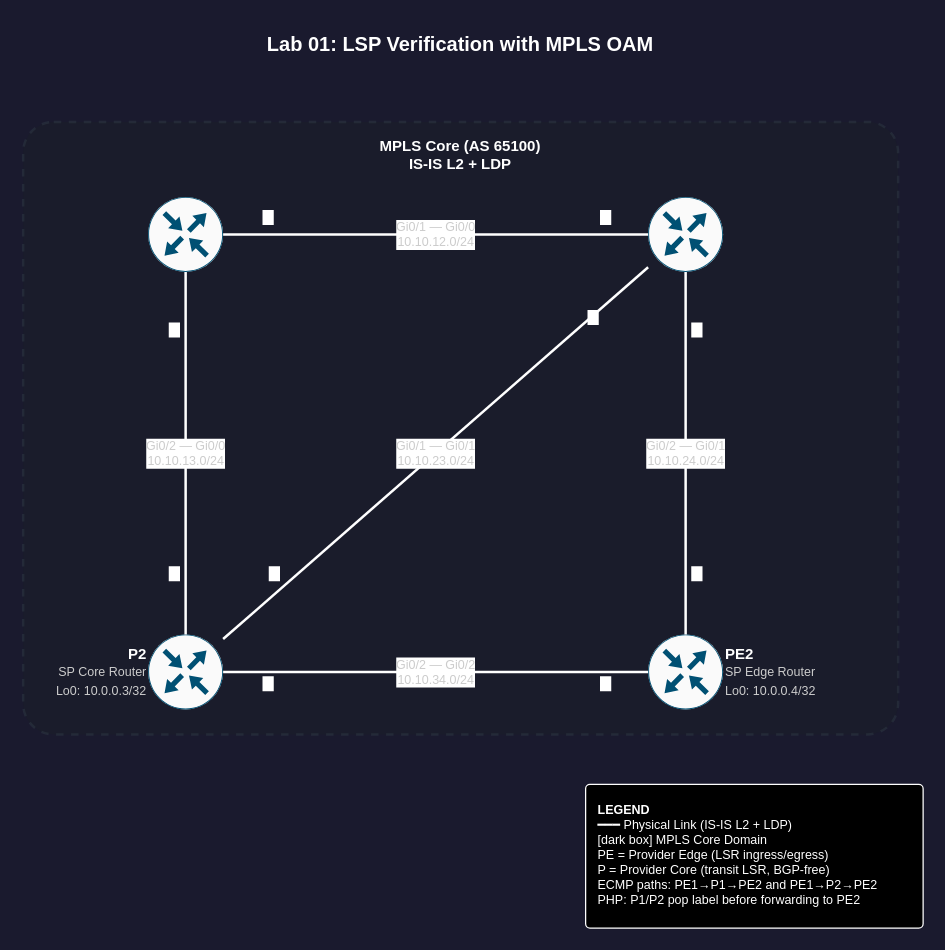
The diagram is 945 pixels wide and 950 high, and some of its shapes have lost their labels. The box of each missing label's shape, as (x1, y1, x2, y2) in pixels:
P1 SP Core Router Lo0: 10.0.0.2/32: (647, 196, 723, 272)
PE1 SP Edge Router Lo0: 10.0.0.1/32: (147, 196, 223, 272)
